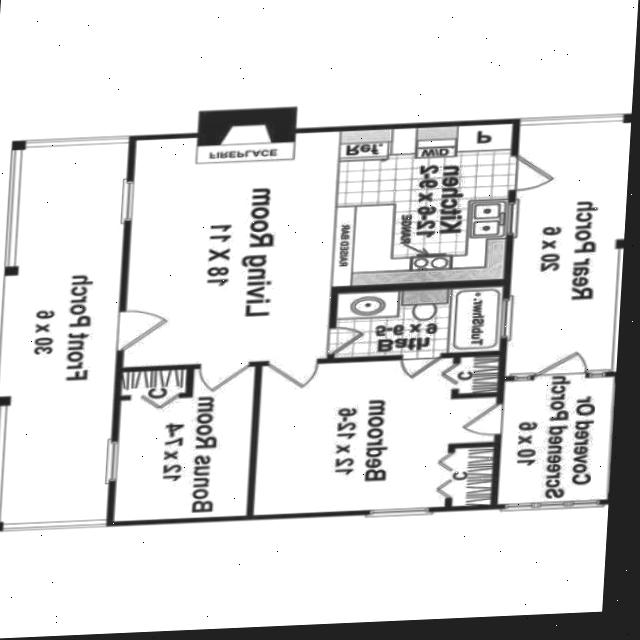room: (112, 123, 522, 367), (247, 357, 505, 514), (113, 359, 254, 529), (498, 370, 613, 511), (331, 286, 506, 358)
